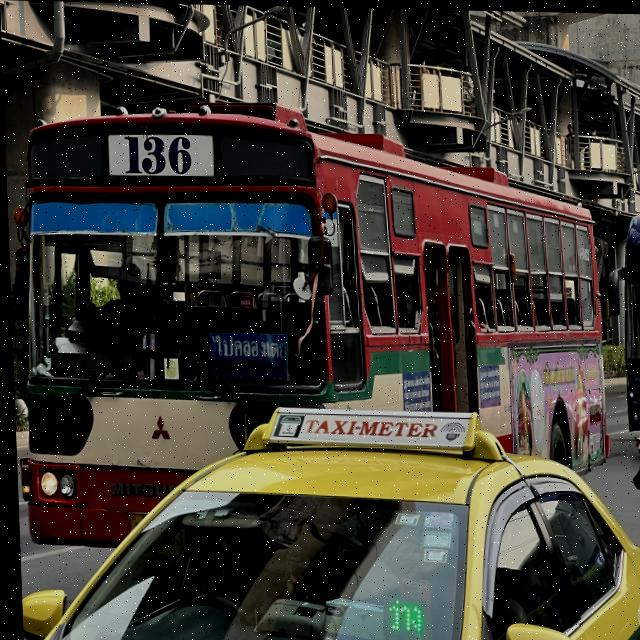BMTA-bus: (9, 96, 609, 559)
Bus-Line-Number: (119, 134, 202, 176)
Destination-Sign-Normal: (207, 330, 287, 379)
